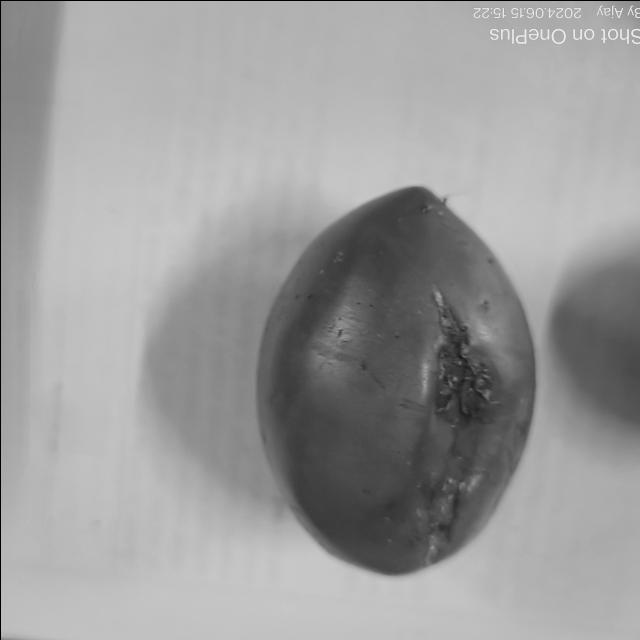tomato_cracking: (420, 299, 497, 567)
